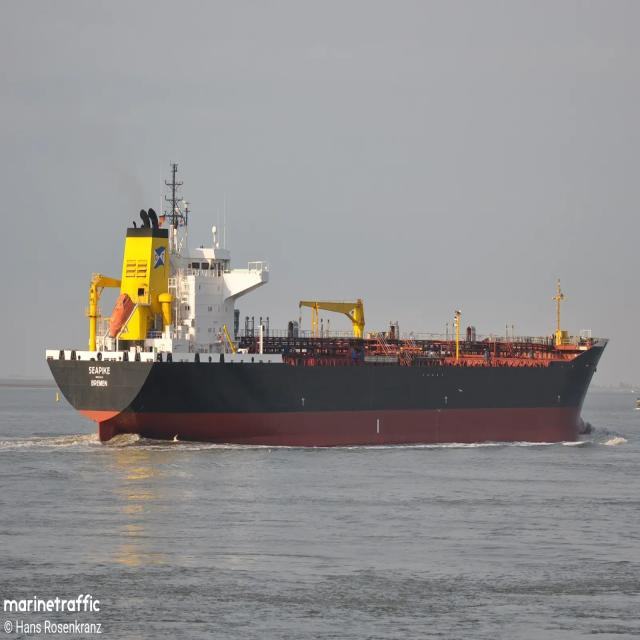Tanker: (46, 165, 608, 446)
